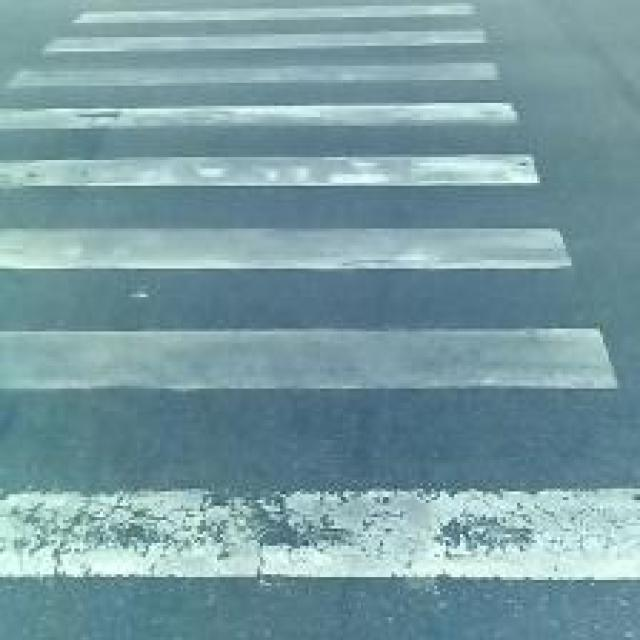zebra: (0, 0, 640, 590)
